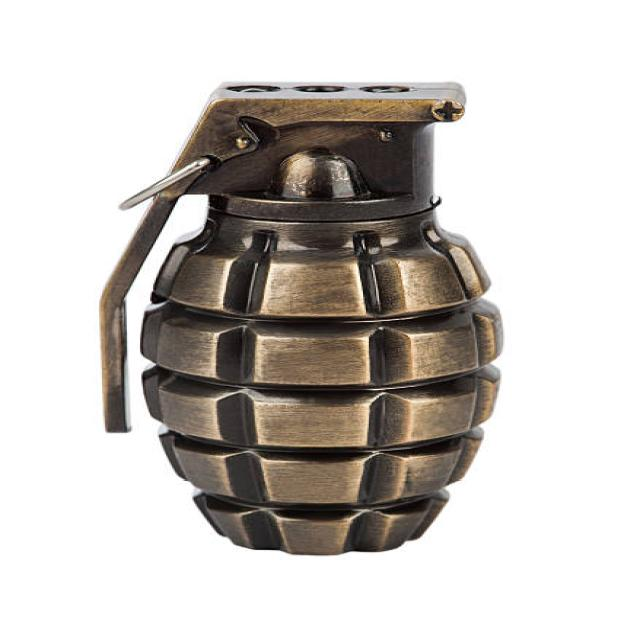grenade: (82, 71, 519, 563)
